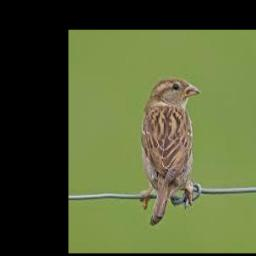Sparrow: (142, 76, 201, 225)
